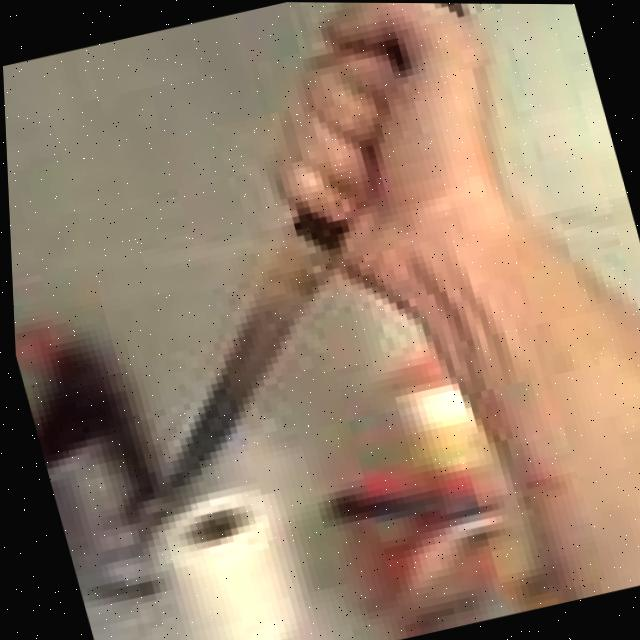knife: (51, 236, 378, 538)
